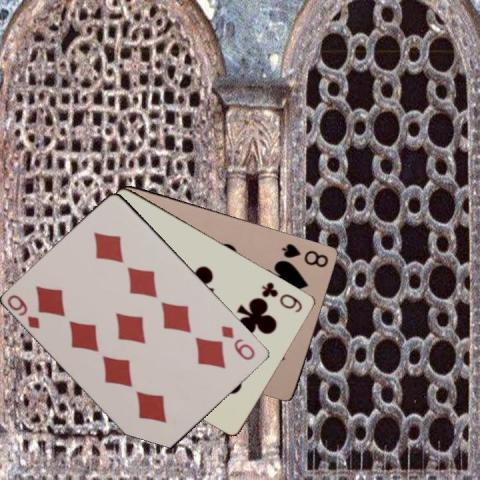6c: (259, 278, 304, 314)
8s: (279, 240, 330, 269)
9d: (4, 291, 42, 331), (219, 323, 257, 362)
